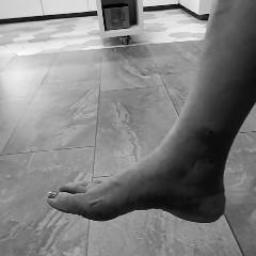Medial View -Right Foot-: (26, 116, 250, 235)
